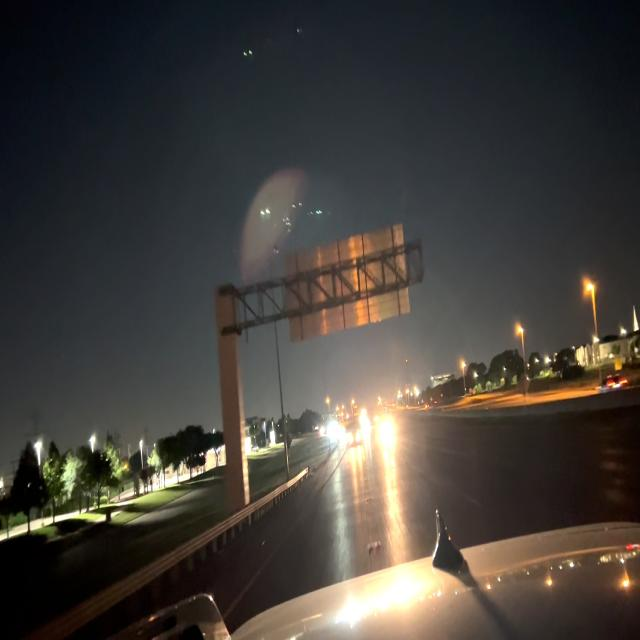back-of-sign: (289, 227, 413, 350)
